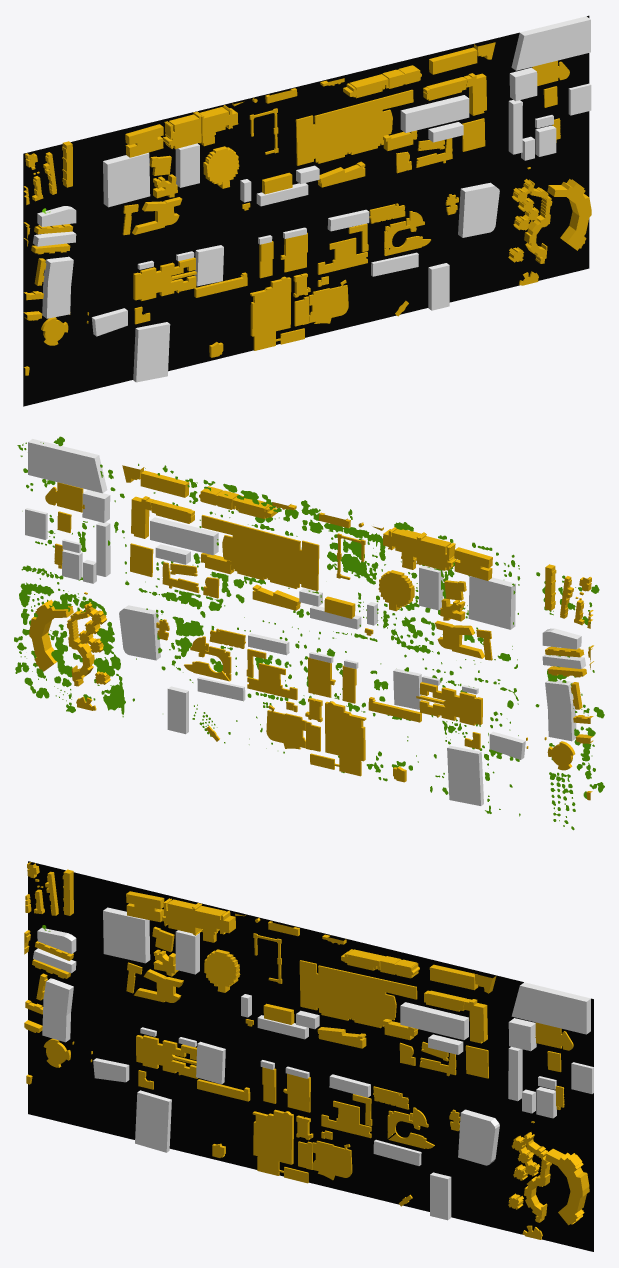
The model's file is new_low_buildings_06.glb.
3 views of the same model, one above another, from view 1: azimuth 30°, elevation 25°; view 2: azimuth 150°, elevation 25°; view 3: azimuth 330°, elevation 25° (orthographic).
Visible parts, largest first — view 1: Layer 04, existing_building - Copy, new buildings; view 2: existing_building - Copy, new buildings, treesurface; view 3: Layer 04, existing_building - Copy, new buildings.
Part boxes in pixels (x1,y1,x2,y2): Layer 04: [23, 15, 589, 406]; existing_building - Copy: [23, 42, 591, 375]; new buildings: [33, 16, 591, 382]; existing_building - Copy: [29, 465, 593, 800]; new buildings: [25, 439, 585, 805]; treesurface: [14, 436, 604, 830]; Layer 04: [28, 861, 593, 1251]; existing_building - Copy: [24, 862, 589, 1239]; new buildings: [33, 907, 593, 1220].
Size of the model in its own units: 1035 by 458 by 20.85.
